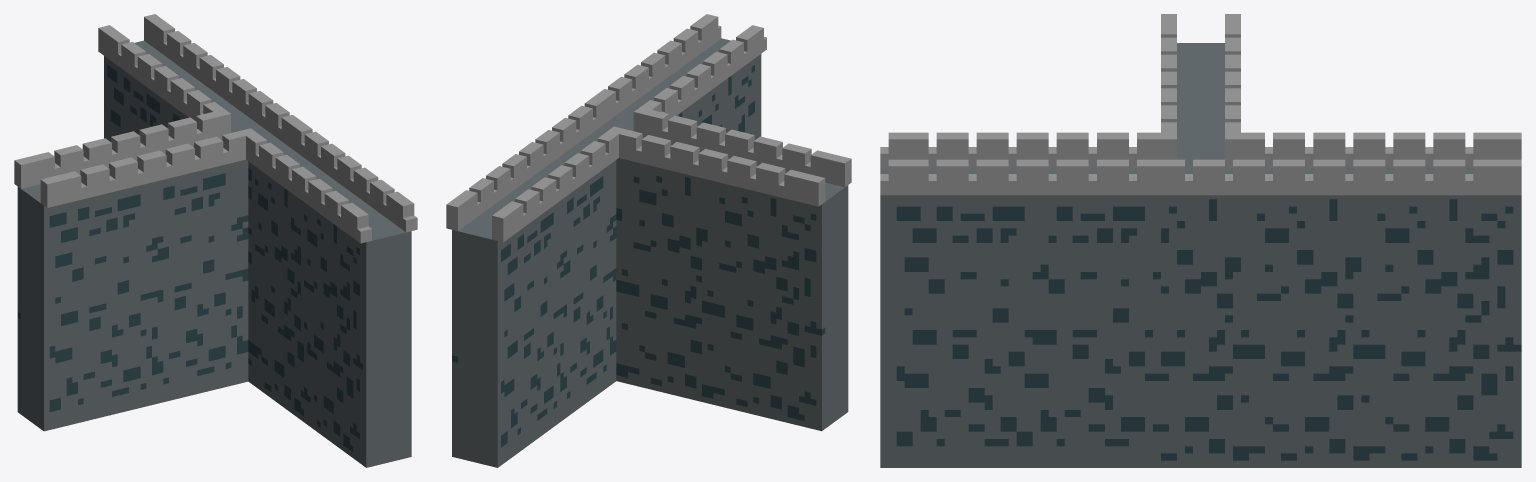
File: wall_t2.obj
The picture shows the model from 3 angles, left to right: view 1: azimuth 30°, elevation 25°; view 2: azimuth 150°, elevation 25°; view 3: azimuth 270°, elevation 25°; orthographic projection. The views are drawn at different scales.
Size of the model in its own units: 4.5 by 4.2 by 8.
1 material, 1 textured.
